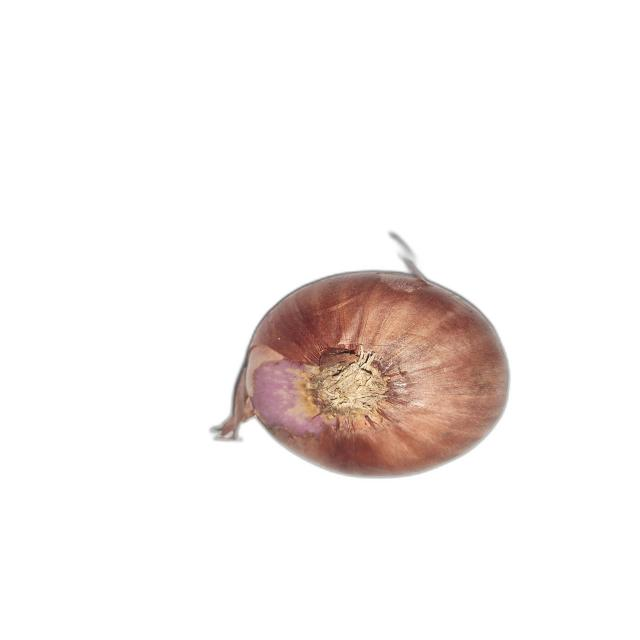onion: (212, 255, 512, 478)
